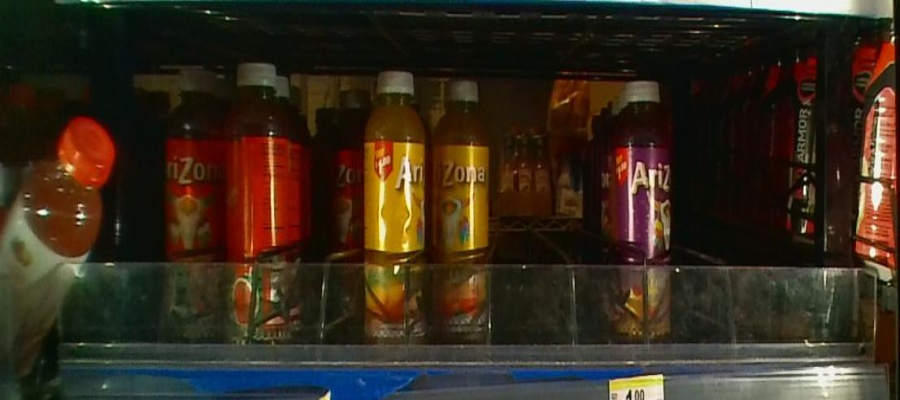bottle: (223, 59, 293, 362), (361, 57, 427, 353), (610, 79, 670, 359), (432, 65, 492, 344), (162, 70, 220, 354), (320, 76, 363, 335)
